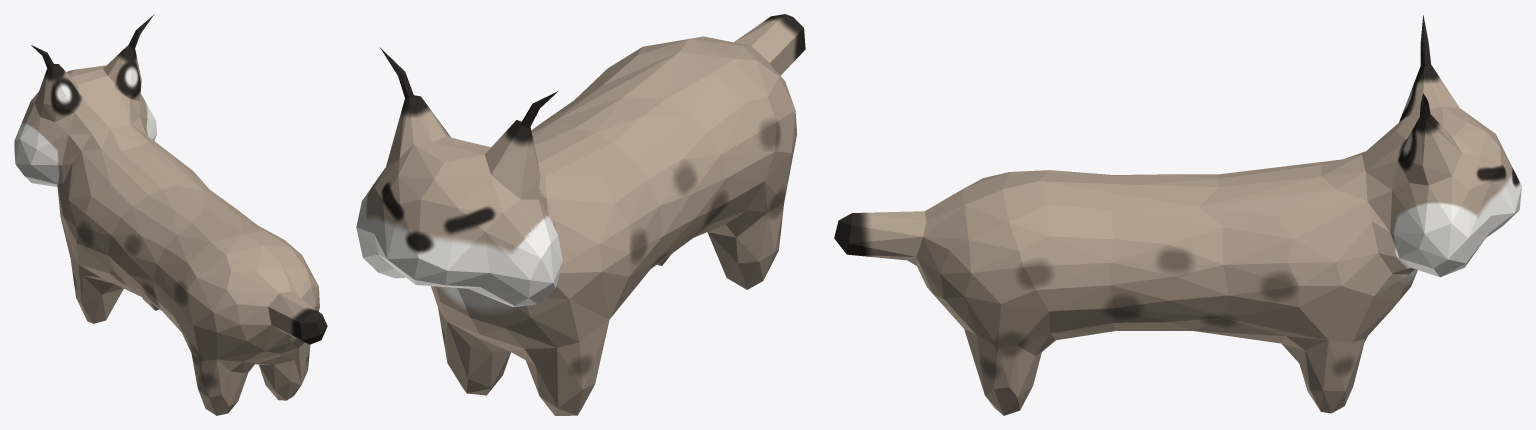
Rendered from animal_lynx_blob.obj.
3 views of the same model, side by side, from view 1: azimuth 30°, elevation 25°; view 2: azimuth 150°, elevation 25°; view 3: azimuth 270°, elevation 25° (orthographic). The views are drawn at different scales.
Visible parts, largest first — view 1: animal_lynx_blob; view 2: animal_lynx_blob; view 3: animal_lynx_blob.
Part boxes in pixels (x1,y1,x2,y2): animal_lynx_blob: (14, 14, 327, 415); animal_lynx_blob: (356, 14, 805, 415); animal_lynx_blob: (834, 15, 1521, 415).
Size of the model in its own units: 0.3298 by 0.6075 by 1.12.
